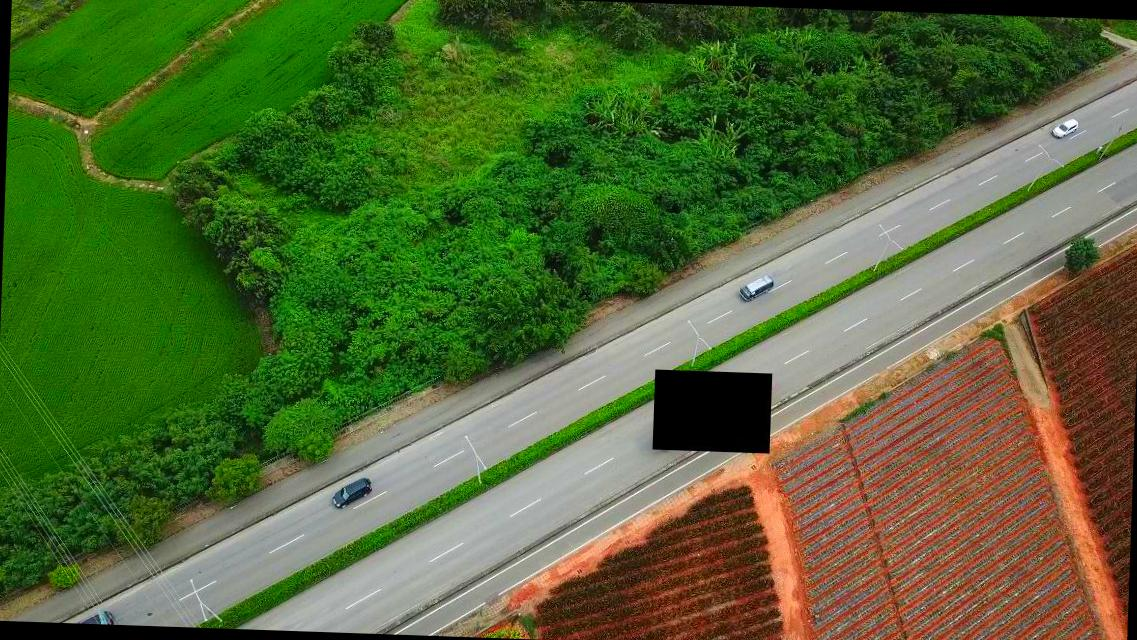vehicle: (328, 474, 376, 508), (738, 272, 772, 301), (1052, 116, 1079, 138)
